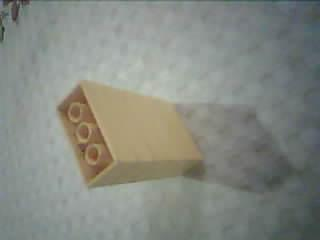lego: (52, 78, 205, 190)
